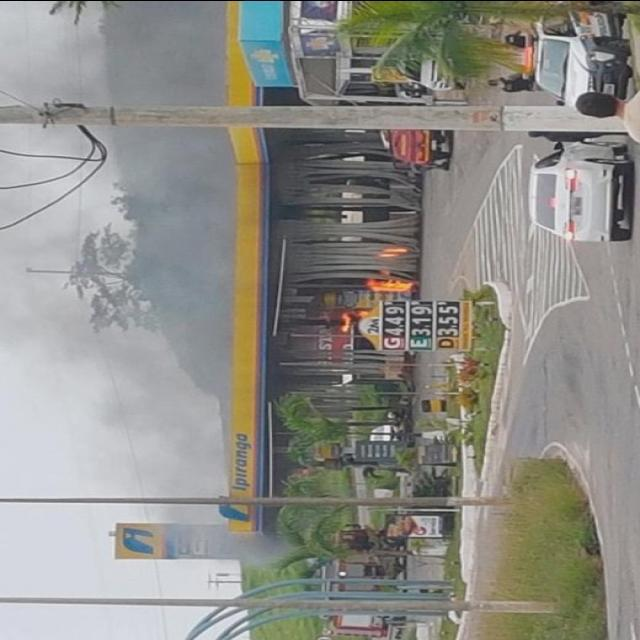Fire: (364, 275, 414, 295)
